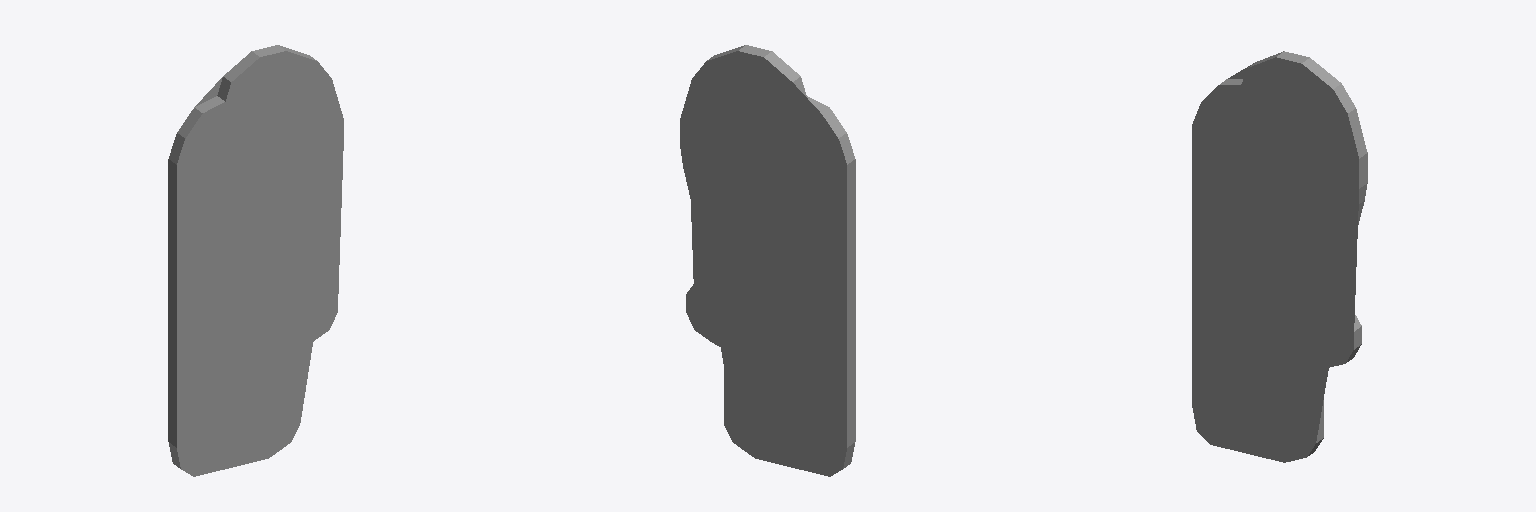
File: collectable_fuel.obj
3 views of the same model, side by side, from view 1: azimuth 30°, elevation 25°; view 2: azimuth 150°, elevation 25°; view 3: azimuth 330°, elevation 25° (orthographic).
Parts seen in each view (by area): view 1: MeshBody1; view 2: MeshBody1; view 3: MeshBody1.
Part boxes in pixels (x1,y1,x2,y2): MeshBody1: (168,45,343,476); MeshBody1: (680,45,855,476); MeshBody1: (1192,51,1367,462).
Size of the model in its own units: 0.58 by 1.34 by 0.05.